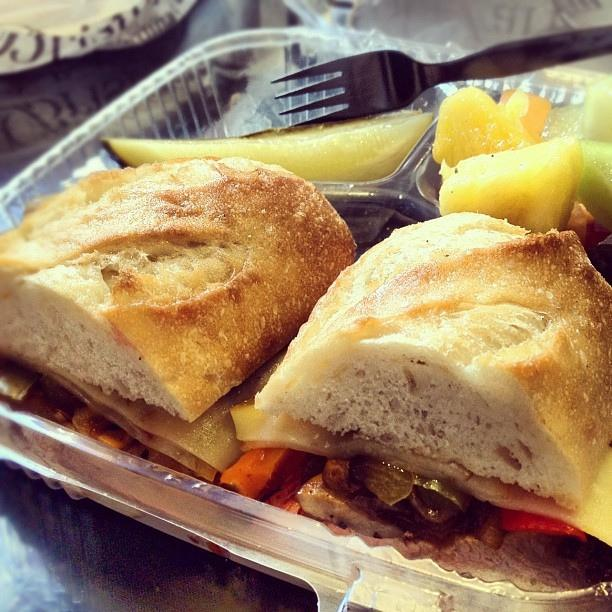carrot: (219, 448, 302, 502), (264, 478, 302, 514)
